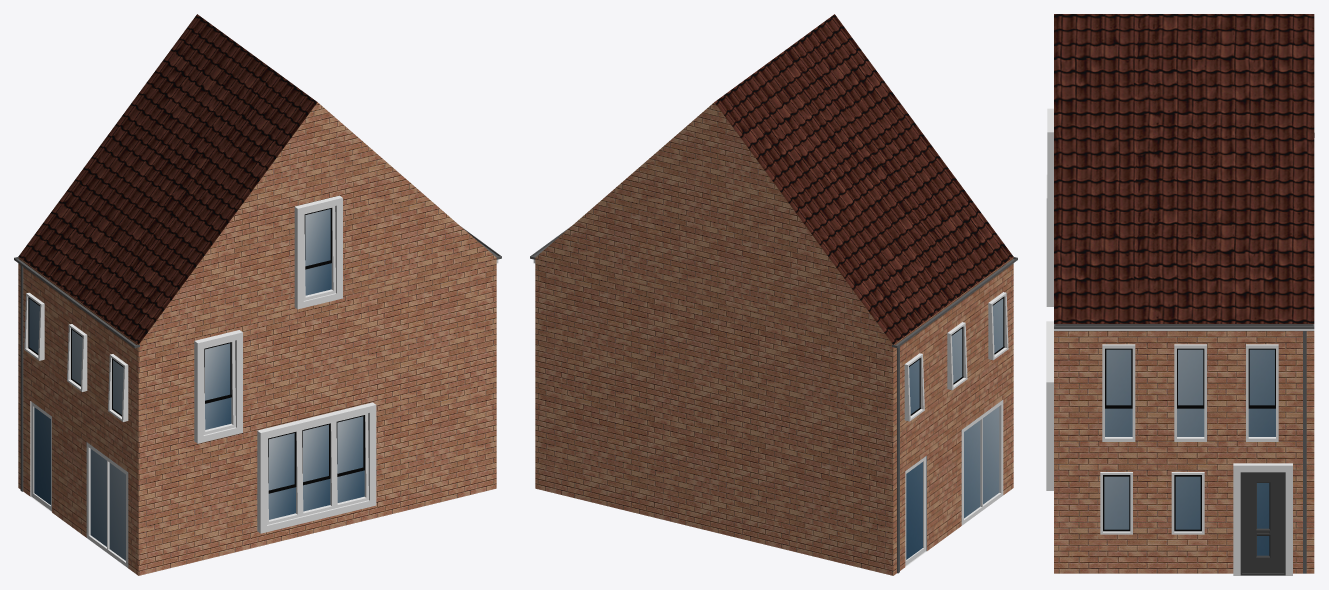
The model's file is Woning_39723_A1Z2.fbx.
3 views of the same model, side by side, from view 1: azimuth 30°, elevation 25°; view 2: azimuth 150°, elevation 25°; view 3: azimuth 270°, elevation 25° (orthographic). The views are drawn at different scales.
Visible parts, largest first — view 1: Woning_39723_A1Z2; view 2: Woning_39723_A1Z2; view 3: Woning_39723_A1Z2.
Part boxes in pixels (<box>): Woning_39723_A1Z2: <box>14,14,501,575</box>; Woning_39723_A1Z2: <box>530,14,1017,575</box>; Woning_39723_A1Z2: <box>1046,14,1314,575</box>.
Size of the model in its own units: 9.59 by 10.7 by 5.59.
